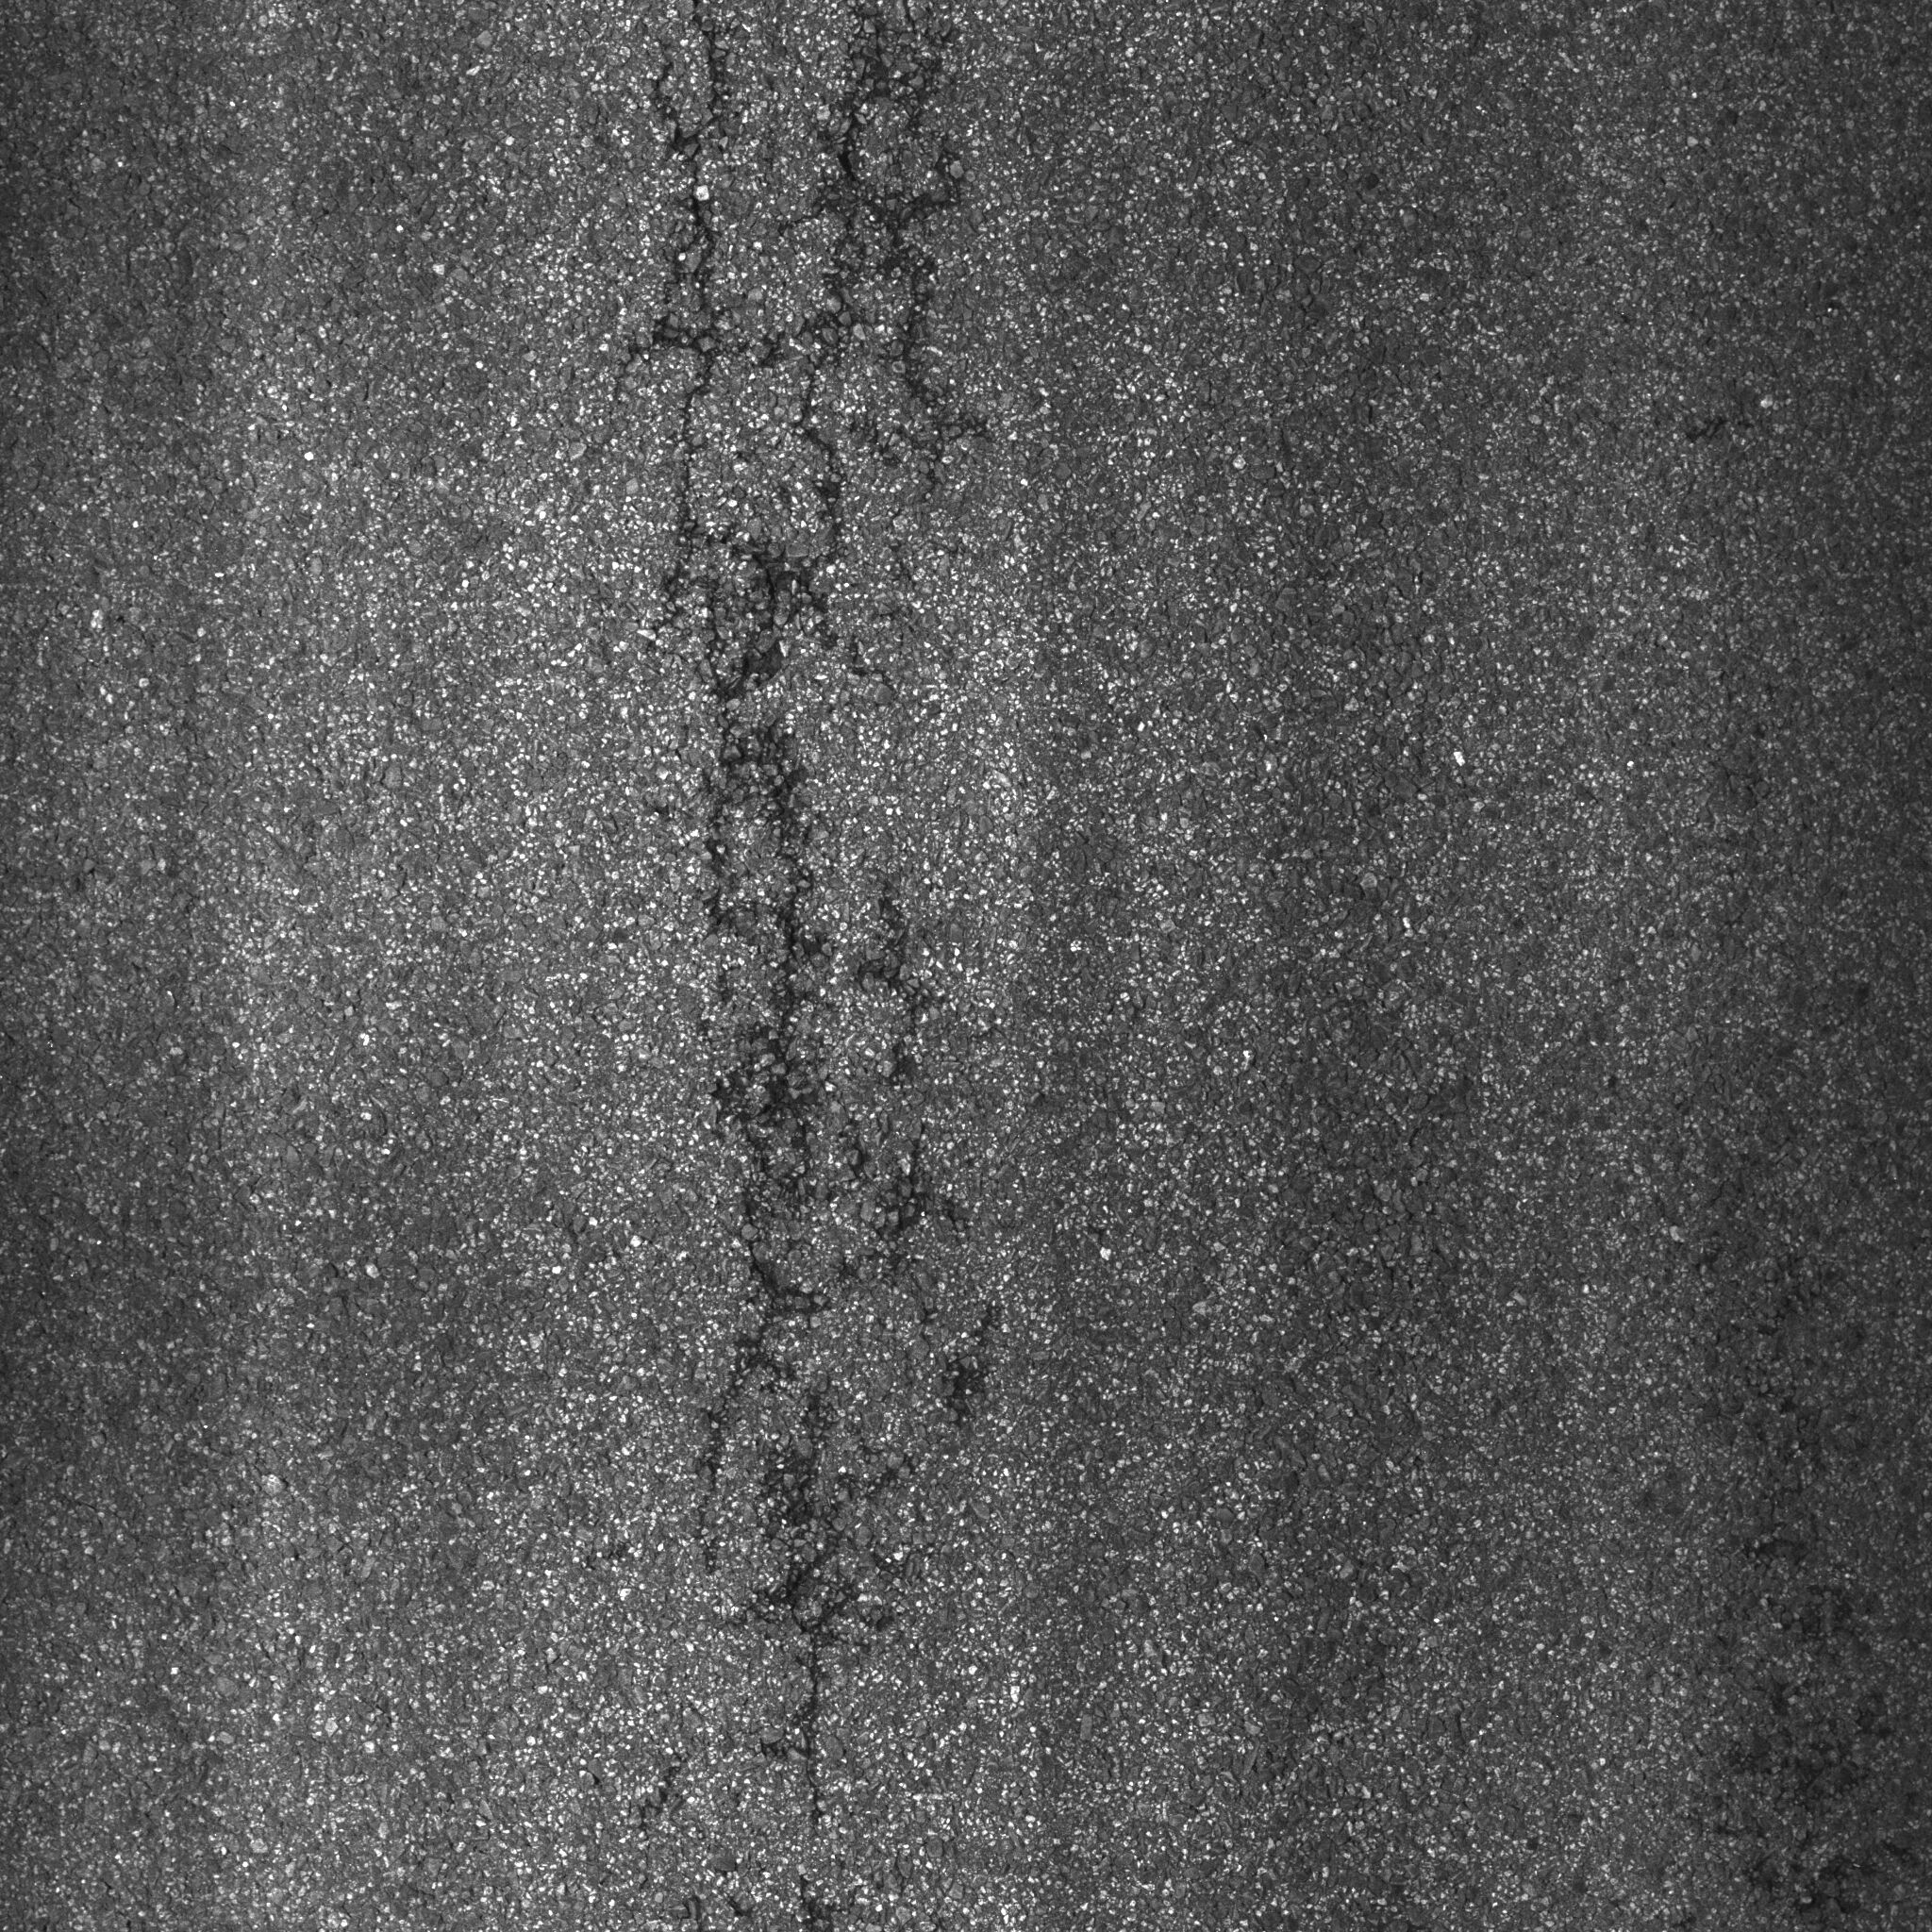alligator: (577, 2, 1093, 1877)
